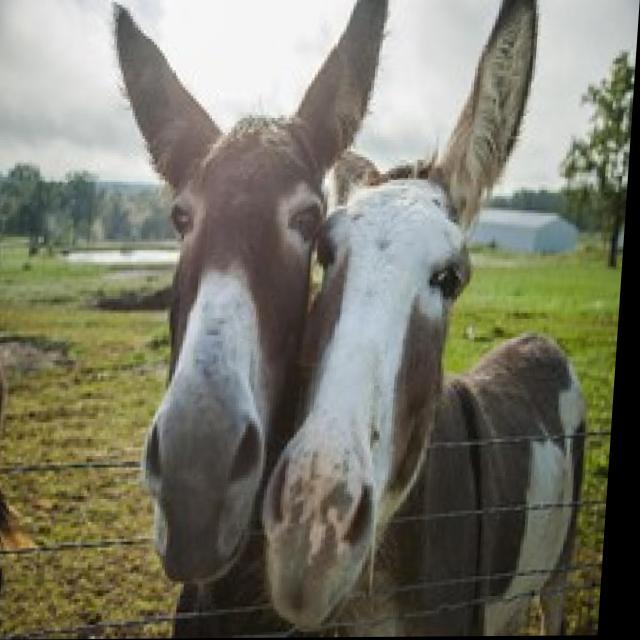Donkey: (267, 0, 628, 638), (52, 0, 316, 639)
